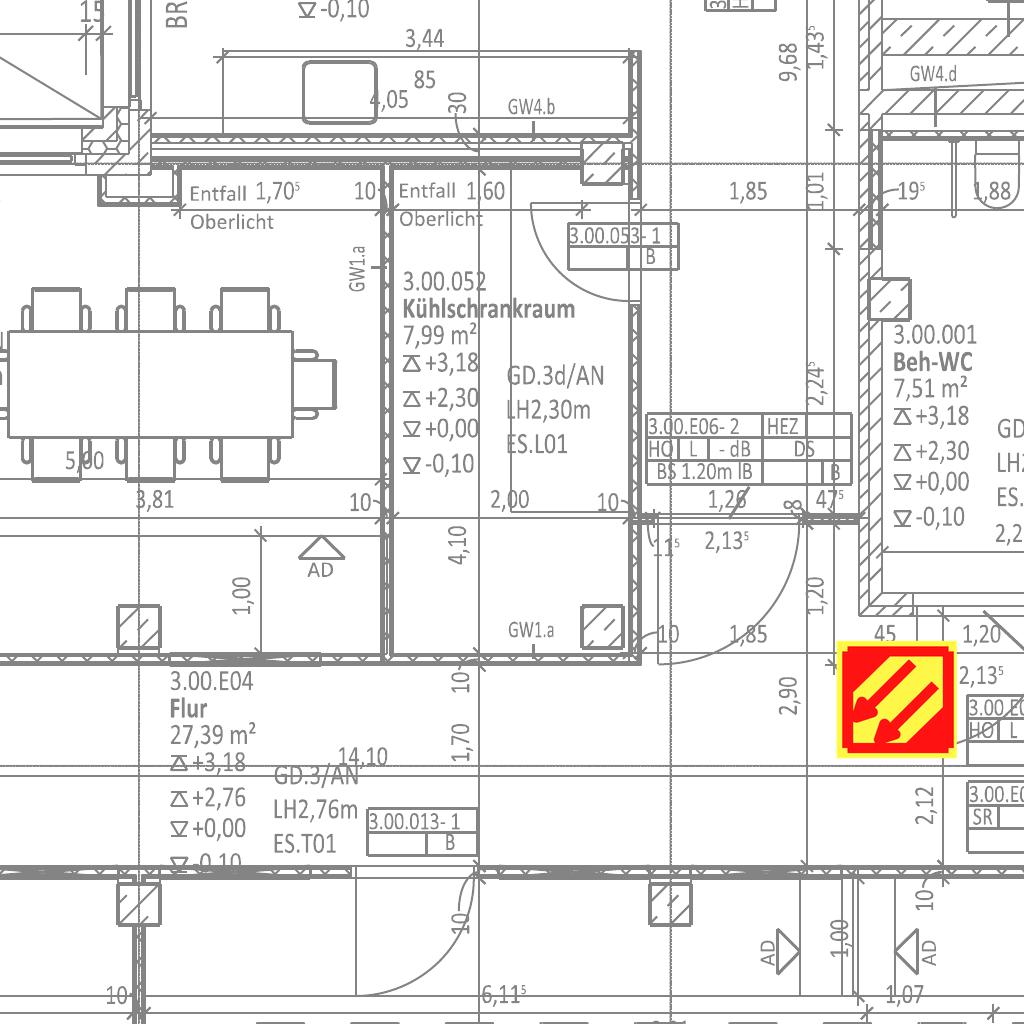ASR_Ansaugrauchmelder: (834, 637, 959, 762)
